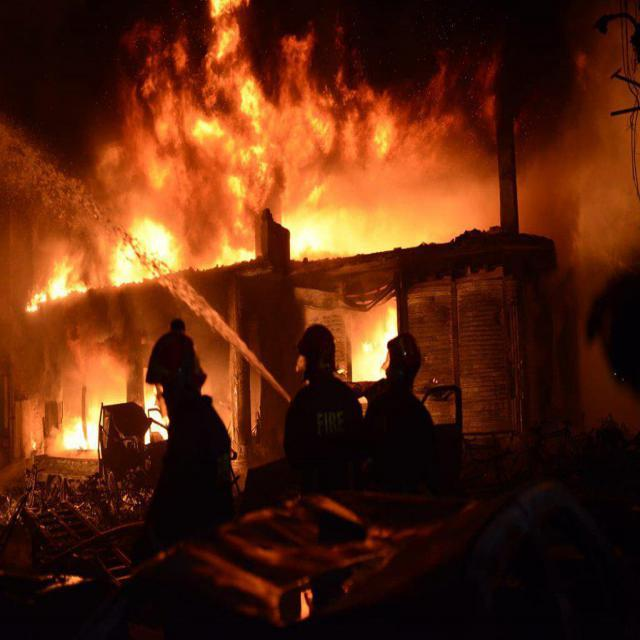Fire: (1, 13, 536, 471)
